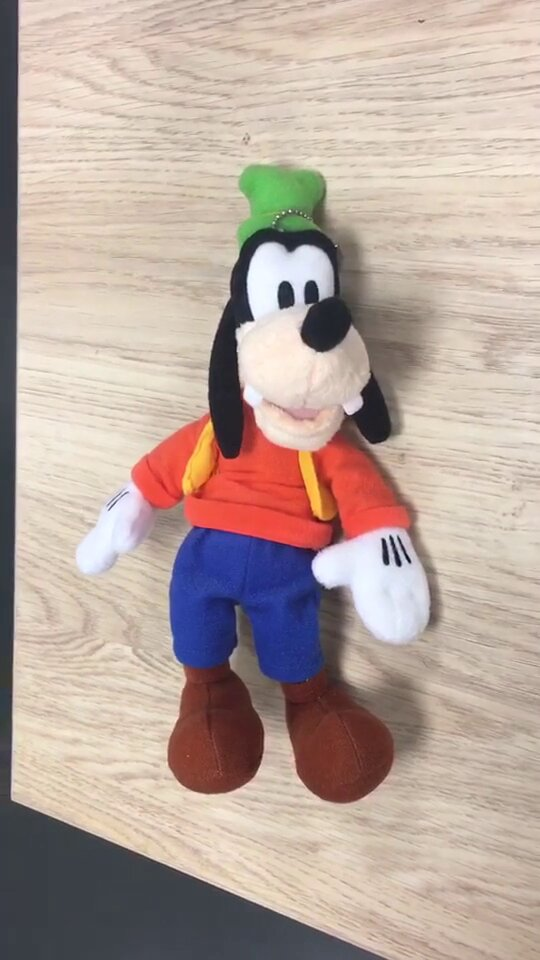goofy: (74, 161, 437, 807)
